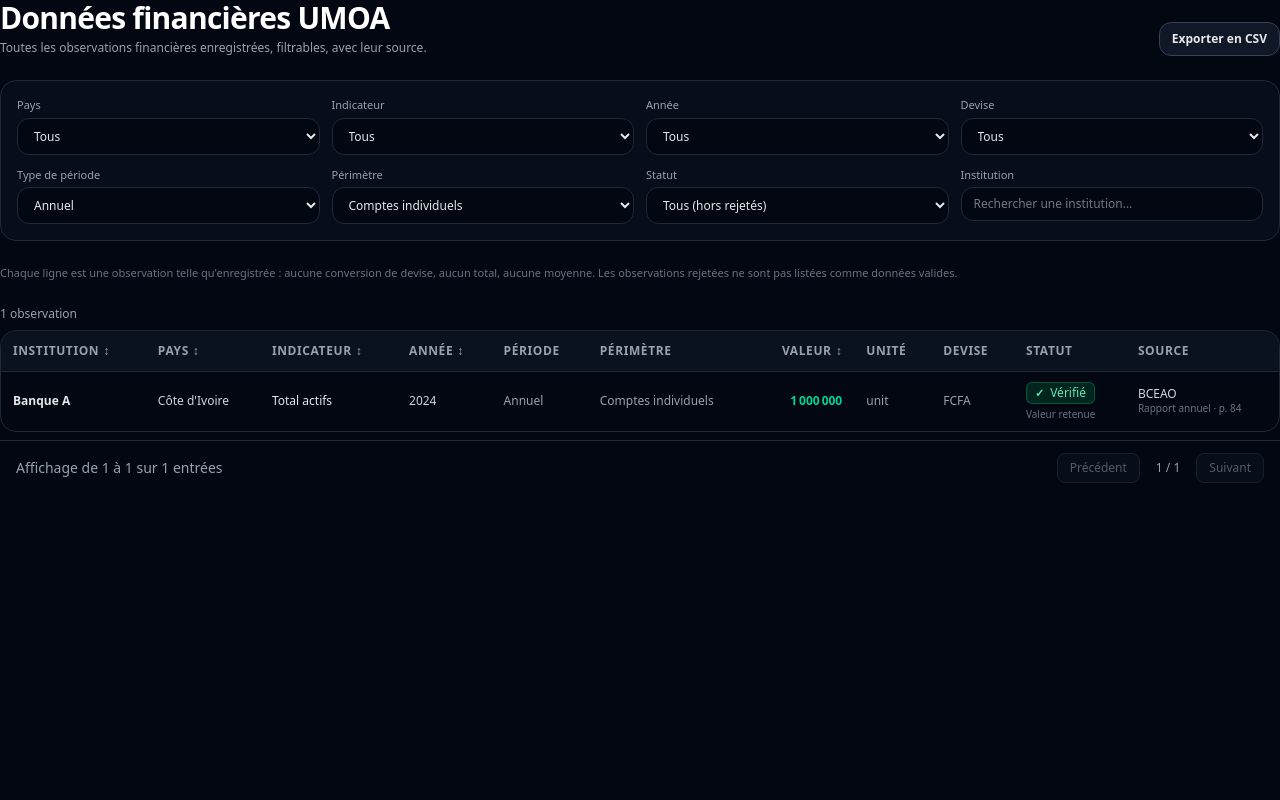
Scenario: provenance › the source opens the existing provenance panel on the real record
Expected: the table with test id "explorer-table" is shown, [1, 330, 1279, 431]
Click the button with test id "explorer-source": (1190, 401) [1138, 386, 1242, 416]
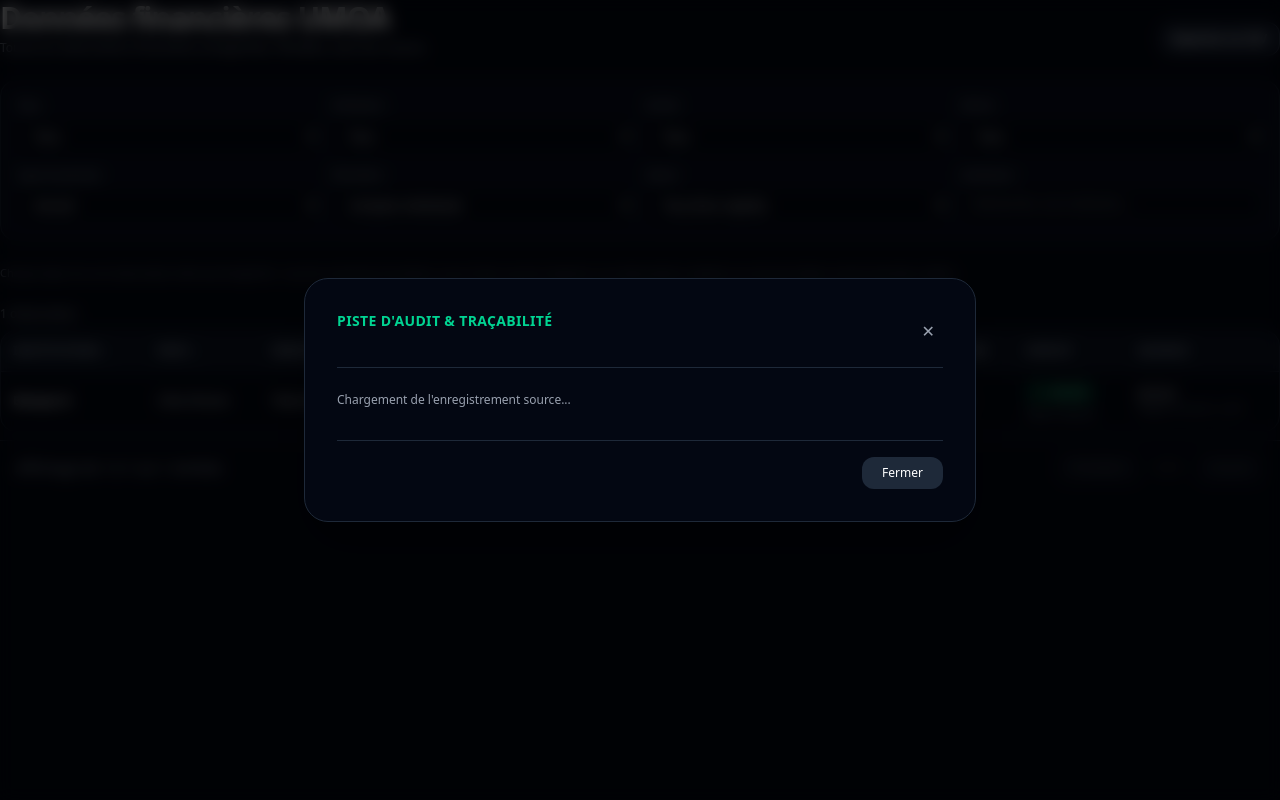
Expected: the dialog is shown
